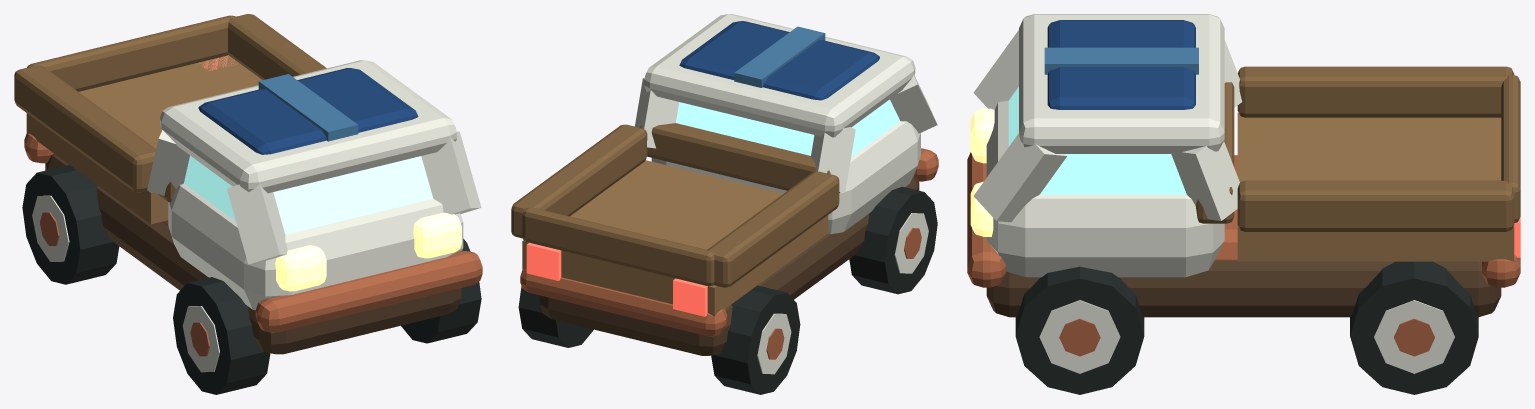
File: truck.glb
The picture shows the model from 3 angles, left to right: view 1: azimuth 30°, elevation 25°; view 2: azimuth 150°, elevation 25°; view 3: azimuth 270°, elevation 25°; orthographic projection. The views are drawn at different scales.
Visible parts, largest first — view 1: Truck_roof_frame, Truck_ceramic_cab, Truck_flat_bed_floor, Truck_underframe, Truck_solar_roof, Truck_cab_glazing, Truck_front_bumper, Truck_bed_side, Truck_bed_tailgate, Truck_rubber_tyre.001, Truck_rubber_tyre, Truck_bed_side.001 (+12 smaller); view 2: Truck_flat_bed_floor, Truck_roof_frame, Truck_underframe, Truck_solar_roof, Truck_bed_tailgate, Truck_bed_side, Truck_bed_bulkhead, Truck_ceramic_cab, Truck_bed_side.001, Truck_rubber_tyre.001, Truck_rubber_tyre, Truck_rear_bumper (+13 smaller); view 3: Truck_flat_bed_floor, Truck_ceramic_cab, Truck_underframe, Truck_roof_frame, Truck_bed_side.001, Truck_bed_side, Truck_solar_roof, Truck_rubber_tyre.003, Truck_rubber_tyre.002, Truck_cab_glazing, Truck_front_pillar.001, Truck_rear_pillar.001 (+14 smaller).
Boxes of the visible parts, x1,y1,x2,y2 form: Truck_roof_frame: (160, 60, 456, 193); Truck_ceramic_cab: (168, 183, 463, 310); Truck_flat_bed_floor: (26, 55, 262, 224); Truck_underframe: (45, 153, 461, 354); Truck_solar_roof: (198, 68, 418, 154); Truck_cab_glazing: (184, 155, 433, 234); Truck_front_bumper: (255, 251, 482, 332); Truck_bed_side: (14, 65, 156, 192); Truck_bed_tailgate: (27, 15, 235, 91); Truck_rubber_tyre.001: (22, 164, 119, 284); Truck_rubber_tyre: (173, 277, 270, 394); Truck_bed_side.001: (228, 14, 326, 79); Truck_flat_bed_floor: (522, 160, 828, 316); Truck_roof_frame: (644, 14, 915, 137); Truck_underframe: (539, 175, 919, 355); Truck_solar_roof: (679, 21, 879, 100); Truck_bed_tailgate: (522, 207, 714, 286); Truck_bed_side: (707, 171, 839, 287); Truck_bed_bulkhead: (640, 123, 840, 192); Truck_ceramic_cab: (651, 121, 920, 234); Truck_bed_side.001: (511, 124, 647, 238); Truck_rubber_tyre.001: (711, 285, 800, 394); Truck_rubber_tyre: (849, 186, 937, 294); Truck_rear_bumper: (520, 269, 727, 336); Truck_flat_bed_floor: (1237, 112, 1514, 261); Truck_ceramic_cab: (986, 101, 1224, 277); Truck_underframe: (986, 260, 1501, 317); Truck_roof_frame: (1019, 14, 1224, 153); Truck_bed_side.001: (1237, 180, 1514, 231); Truck_bed_side: (1237, 66, 1514, 117); Truck_solar_roof: (1047, 20, 1195, 109); Truck_rubber_tyre.003: (1350, 261, 1478, 394); Truck_rubber_tyre.002: (1015, 266, 1144, 394); Truck_cab_glazing: (1008, 87, 1186, 194); Truck_front_pillar.001: (974, 133, 1066, 222); Truck_rear_pillar.001: (1171, 141, 1239, 220).
Size of the model in its own units: 0.509 by 0.465 by 0.86.
